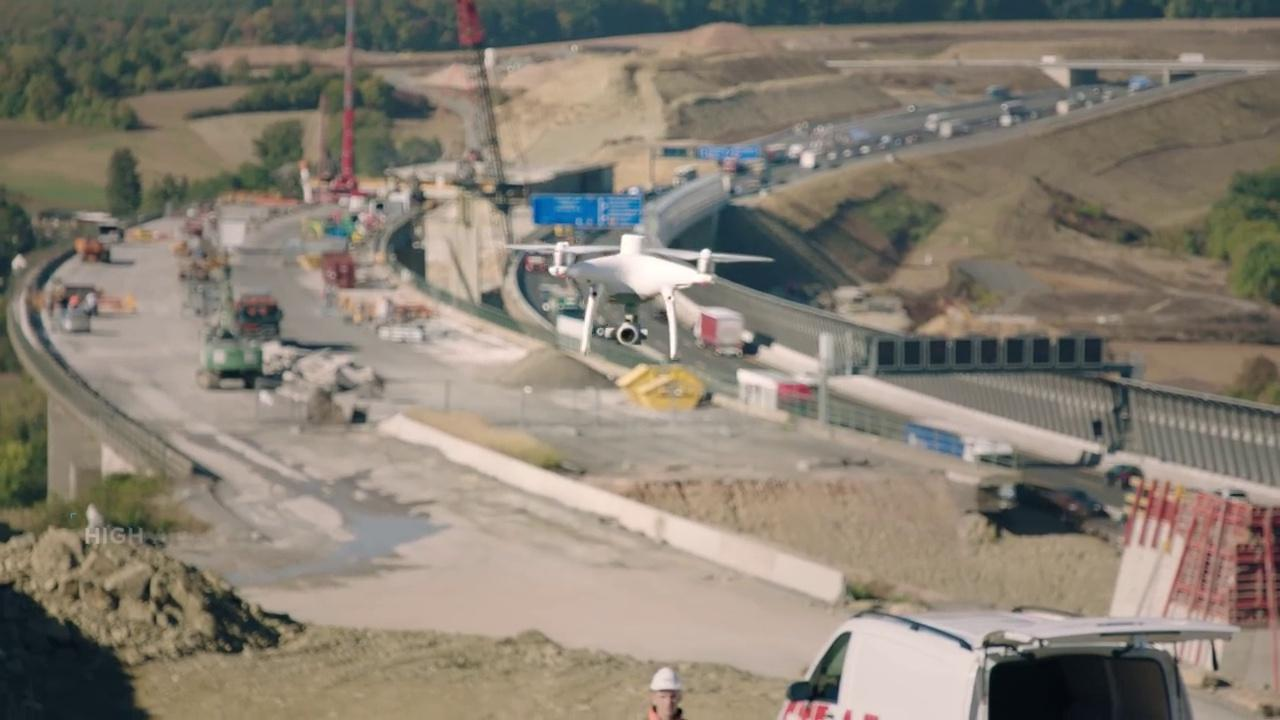drone: (502, 230, 775, 360)
